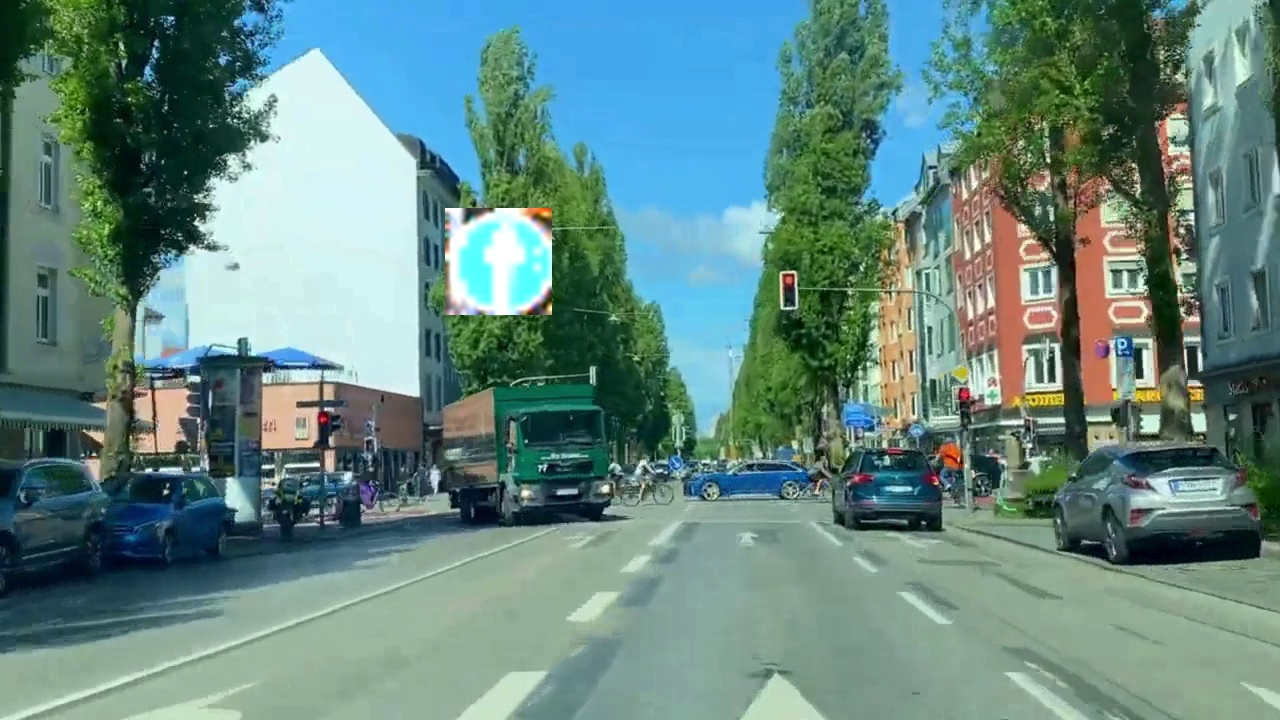Ahead only: (445, 208, 552, 315)
